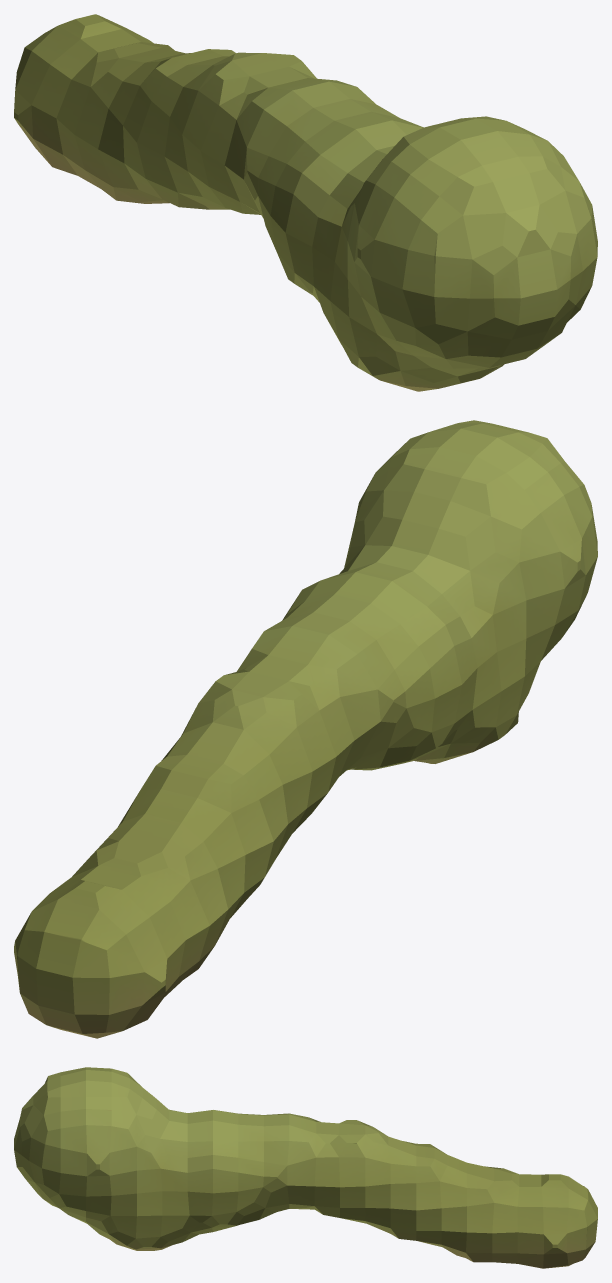
File: viper.glb
3 views of the same model, one above another, from view 1: azimuth 30°, elevation 25°; view 2: azimuth 150°, elevation 25°; view 3: azimuth 270°, elevation 25° (orthographic). The views are drawn at different scales.
Visible parts, largest first — view 1: geometry_0; view 2: geometry_0; view 3: geometry_0.
Part boxes in pixels (x1,y1,x2,y2): geometry_0: (14, 14, 597, 391); geometry_0: (14, 420, 597, 1038); geometry_0: (14, 1067, 597, 1268).
Bounding box in the file's own units: 0.6853 × 0.9299 × 2.62.
1 material, 1 textured.
